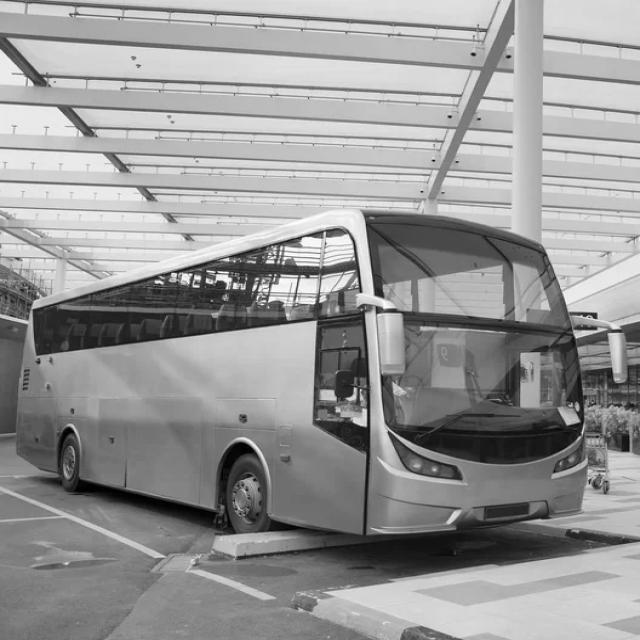Bus: (17, 210, 588, 536)
